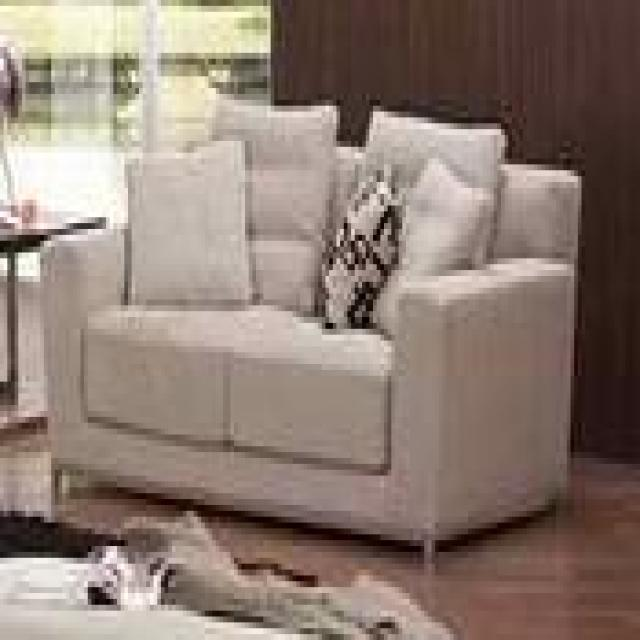sofa: (39, 115, 580, 575)
